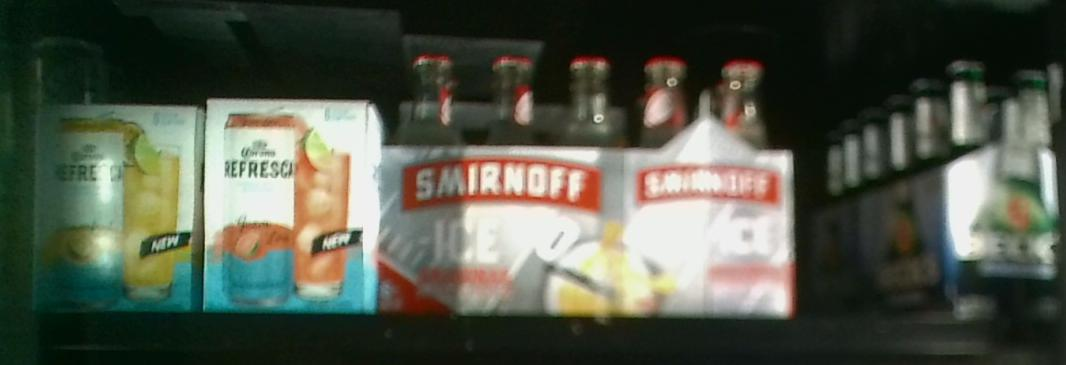bottle: (387, 53, 629, 316), (631, 49, 796, 321), (206, 97, 380, 315), (38, 104, 201, 320), (942, 66, 1061, 314)
